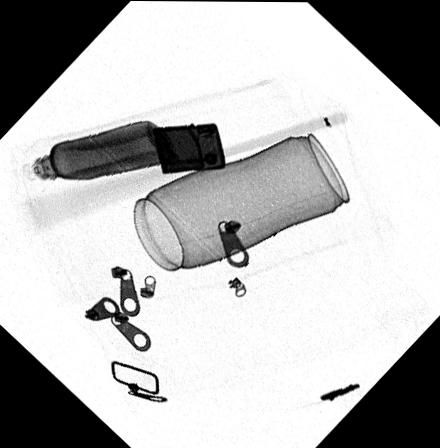Lighter: (149, 119, 226, 175)
